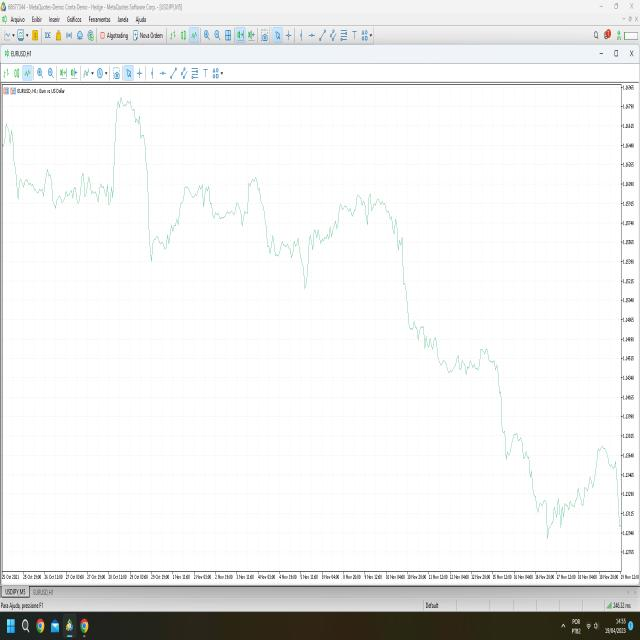bandeira_baixa: (489, 342, 536, 475), (133, 114, 168, 289)
